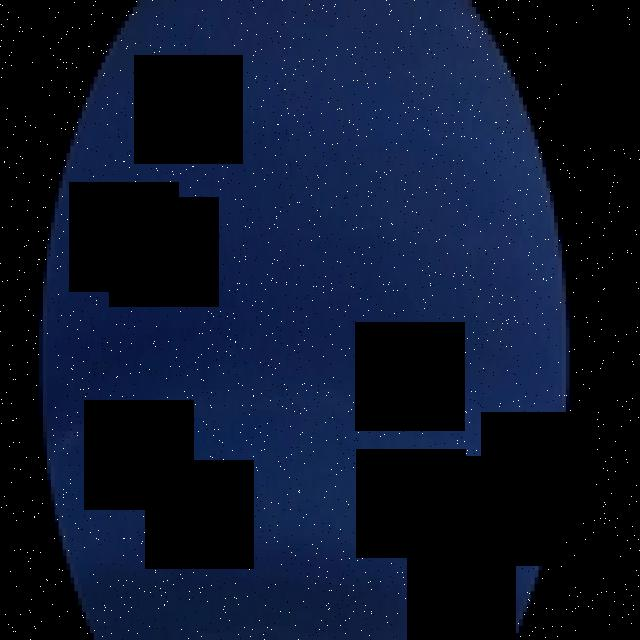Neptune: (39, 0, 574, 640)
